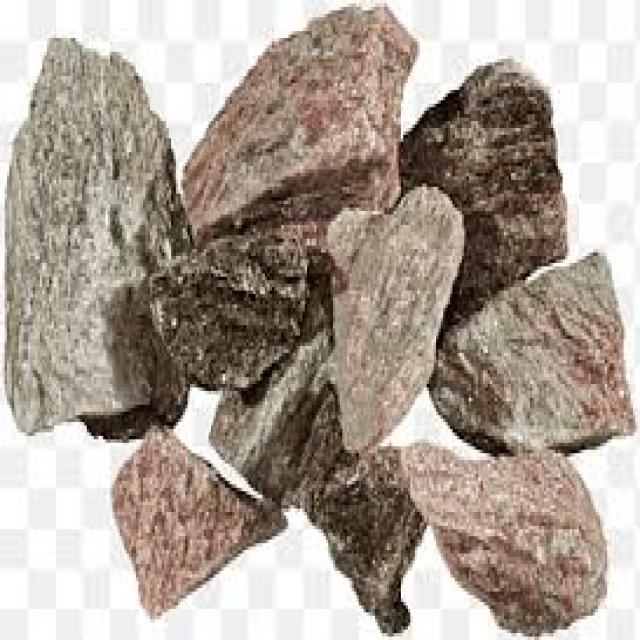Metamorphic: (14, 4, 626, 622)
